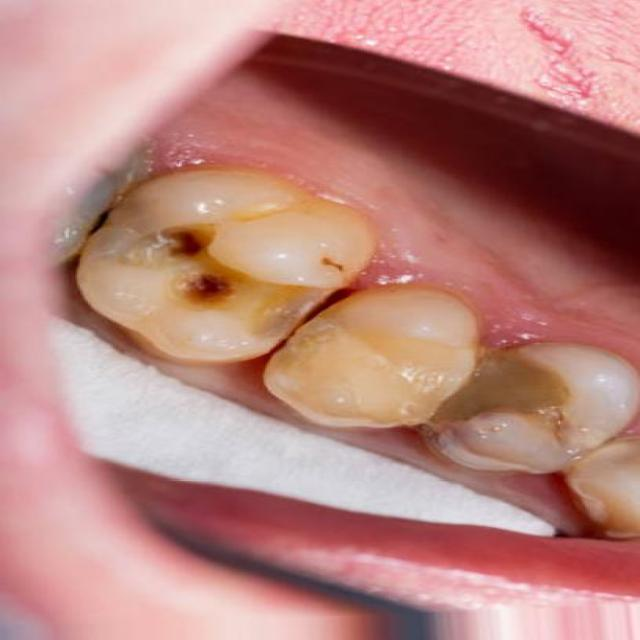caries: (89, 200, 298, 334), (267, 300, 461, 430), (424, 340, 608, 468)
